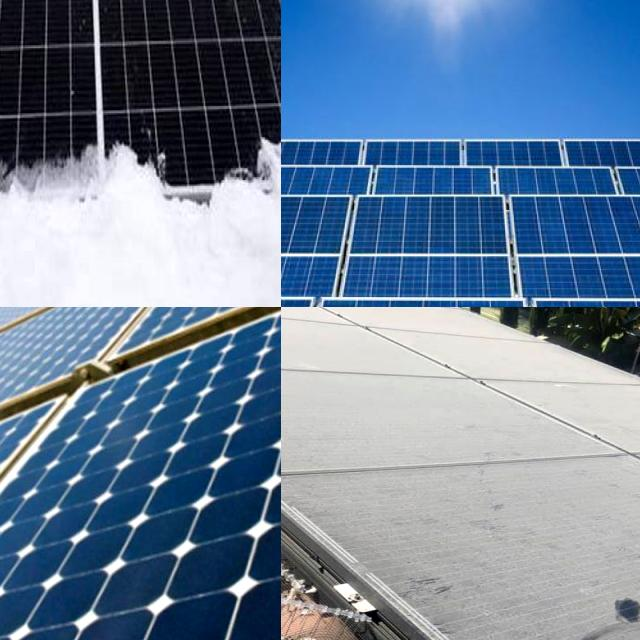crack: (0, 307, 281, 640), (338, 191, 536, 307), (487, 186, 640, 307), (281, 193, 402, 307)
dust: (471, 470, 640, 639), (281, 389, 472, 463), (281, 307, 410, 373), (350, 492, 460, 563), (423, 342, 598, 375), (567, 385, 640, 434)
panel: (71, 139, 161, 211), (210, 131, 281, 219), (0, 142, 65, 238), (0, 0, 27, 211), (0, 173, 67, 228), (199, 0, 281, 43), (93, 0, 191, 25), (0, 0, 85, 25), (0, 0, 36, 14)
